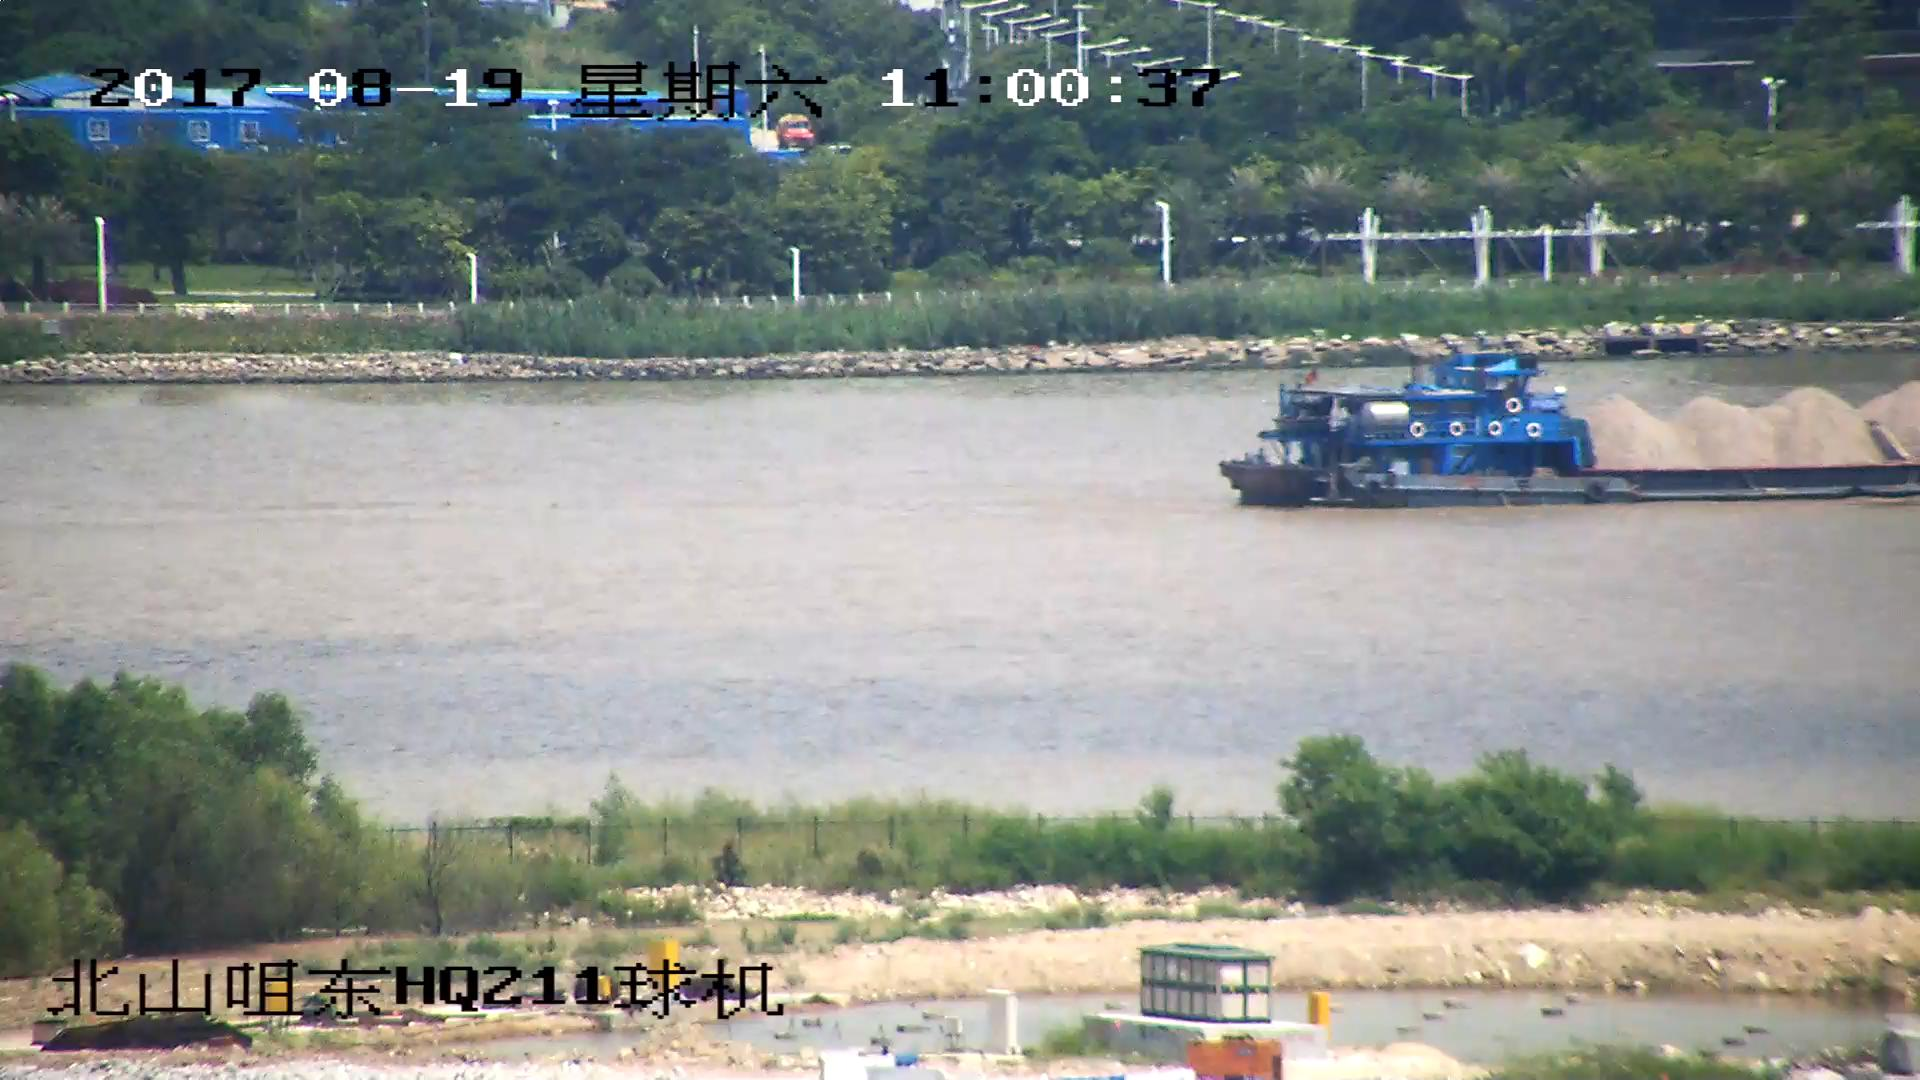ore carrier: (1221, 354, 1920, 508)
